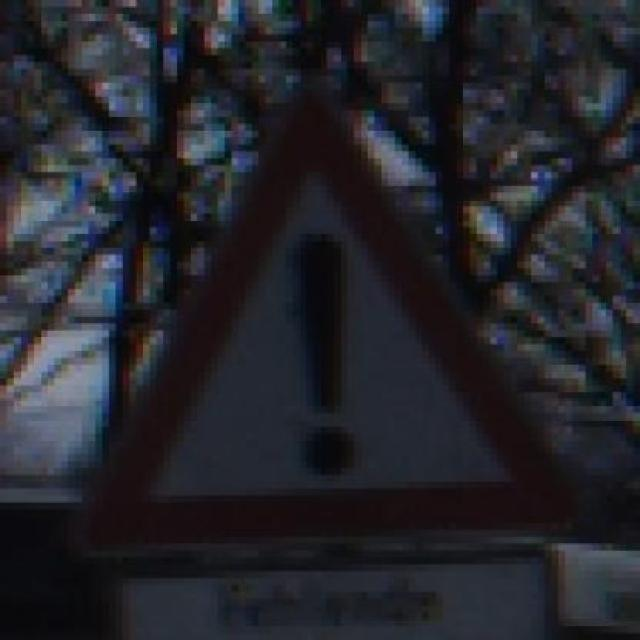Attention Please-: (48, 96, 572, 558)
